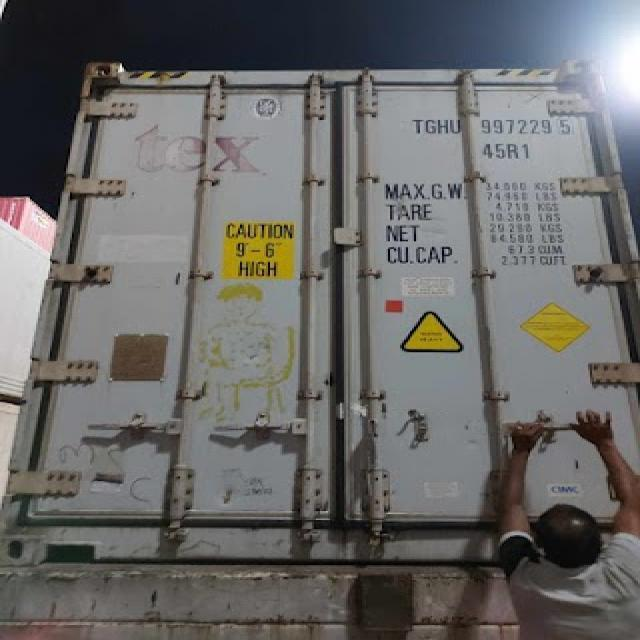ISO: (478, 140, 532, 162)
container_number: (417, 118, 577, 138)
